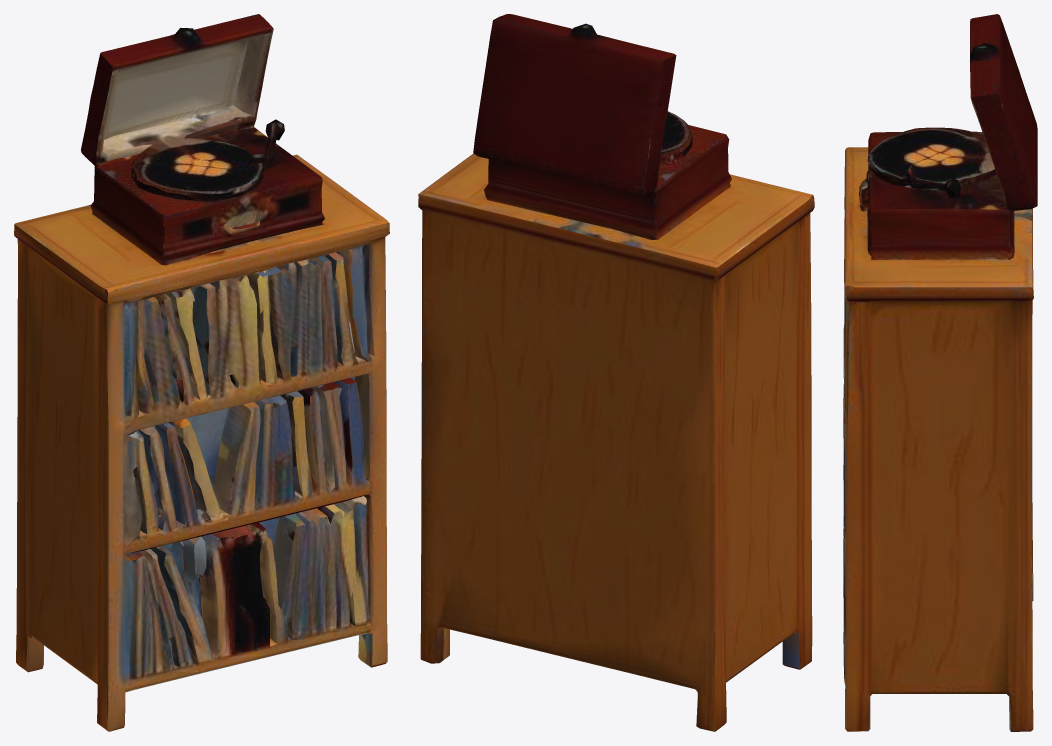
Rendered from record_shelf.glb.
3 renders of one model, left to right at view 1: azimuth 30°, elevation 25°; view 2: azimuth 150°, elevation 25°; view 3: azimuth 270°, elevation 25°, orthographic. The views are drawn at different scales.
Parts seen in each view (by area): view 1: record_shelf2; view 2: record_shelf2; view 3: record_shelf2.
Part boxes in pixels (x1=…): record_shelf2: x1=14, y1=14, x2=389, y2=731; record_shelf2: x1=418, y1=14, x2=814, y2=731; record_shelf2: x1=843, y1=14, x2=1037, y2=731.
Size of the model in its own units: 0.484 by 1 by 0.2839.
1 material, 1 textured.
